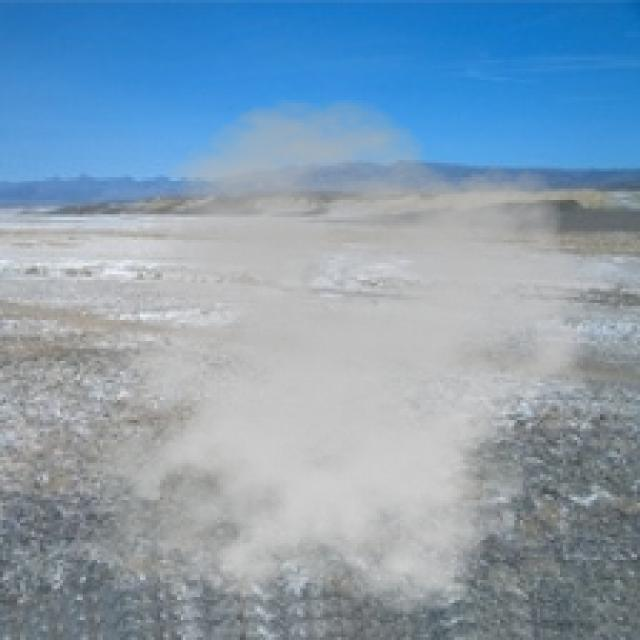Smoke: (57, 97, 609, 632)
